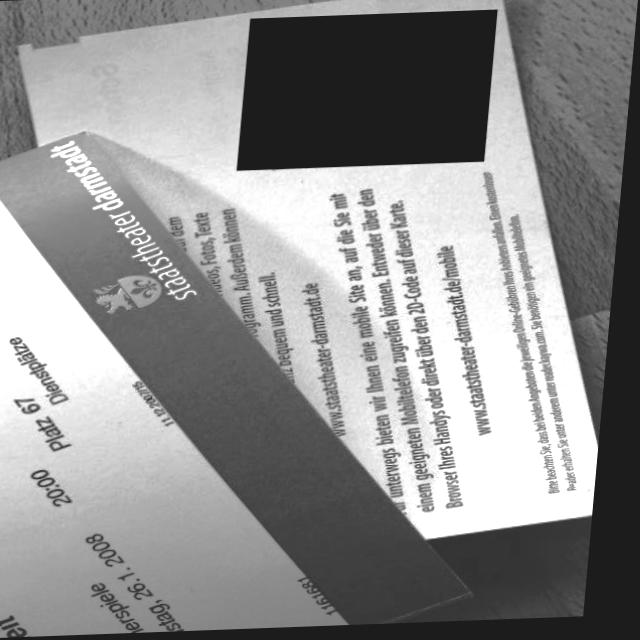qr_code: (240, 12, 498, 172)
